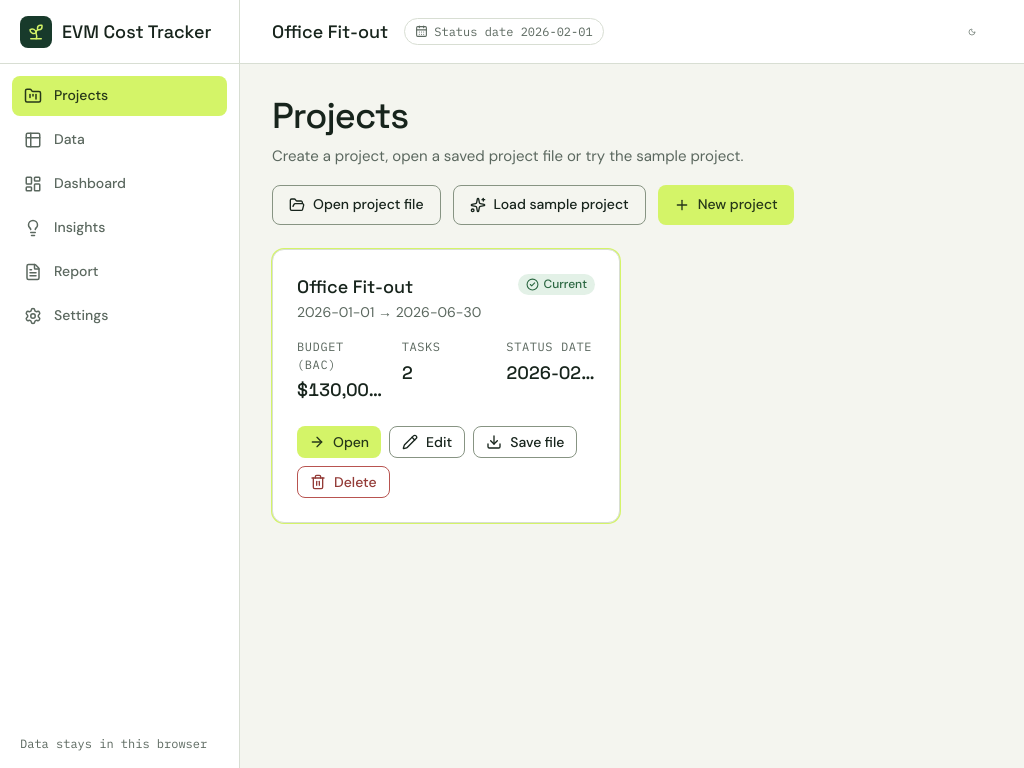
Test case: Projects page (FR-01, FR-09) › CT-PRJ-02 edits a project
The image size is (1024, 768).
Expected: the text with test id "current-project" reads "Office Fit-out", [272, 20, 388, 43]
Click the button "Edit" at (427, 442), box [389, 426, 465, 458]
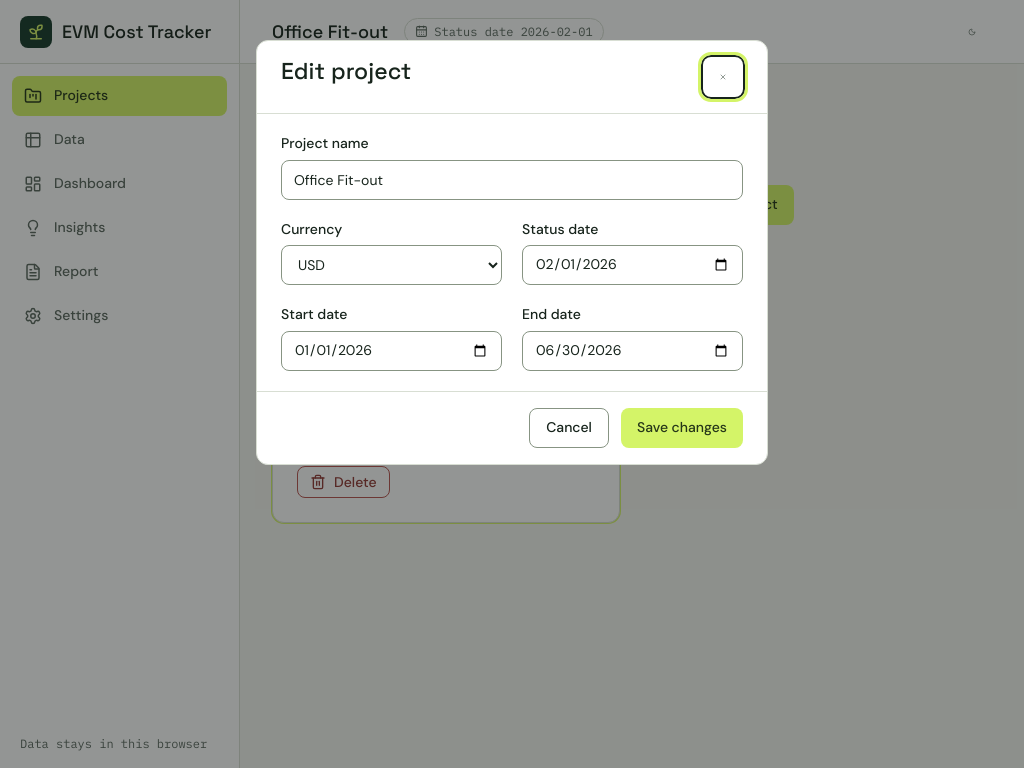
Replace the text in the field labelled "Project name" with "Office Fit-out Phase 2" at (512, 180), box [281, 160, 743, 200]
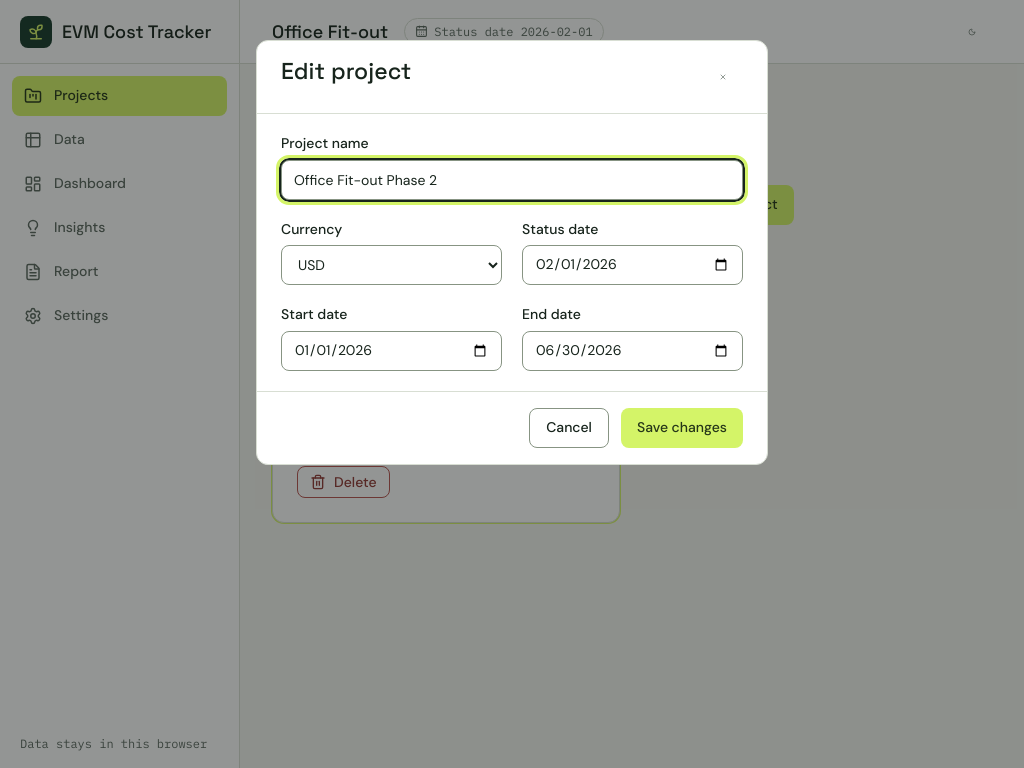
Click the button "Save changes" at (682, 428), box [621, 408, 743, 448]
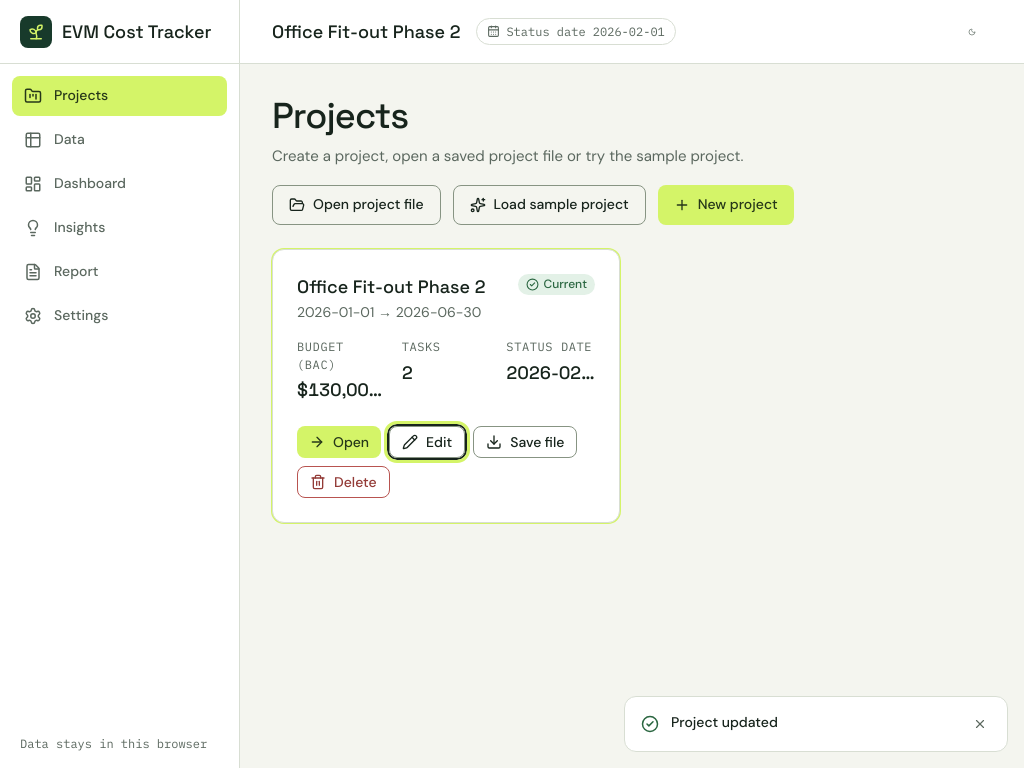
Result: the element "Office Fit-out Phase 2" is shown at [272, 249, 620, 523]
